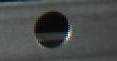holes: (31, 9, 74, 49)
